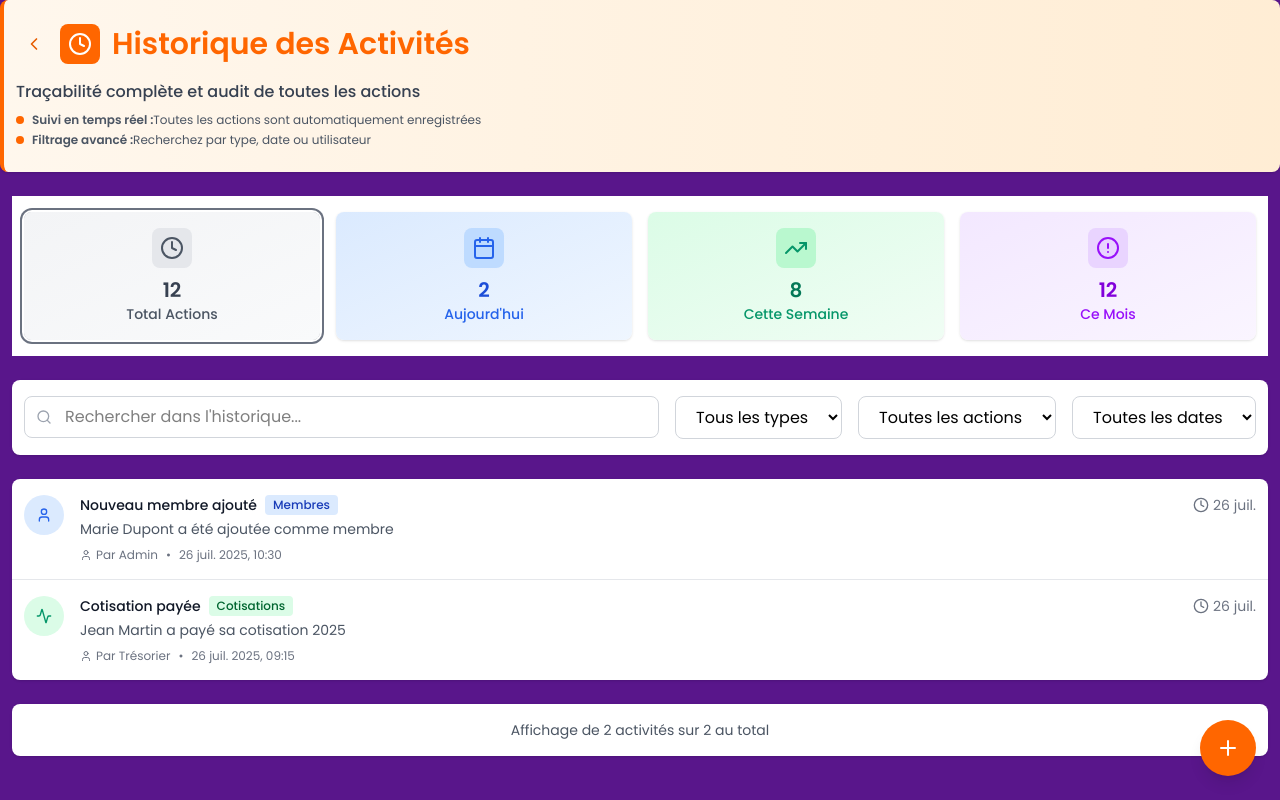
Test: HistoryPage › filtre les activités par type
Select "Membres" in the 1st dropdown showing "Tous les types" at (758, 418), box x1=675 y1=396 x2=842 y2=439
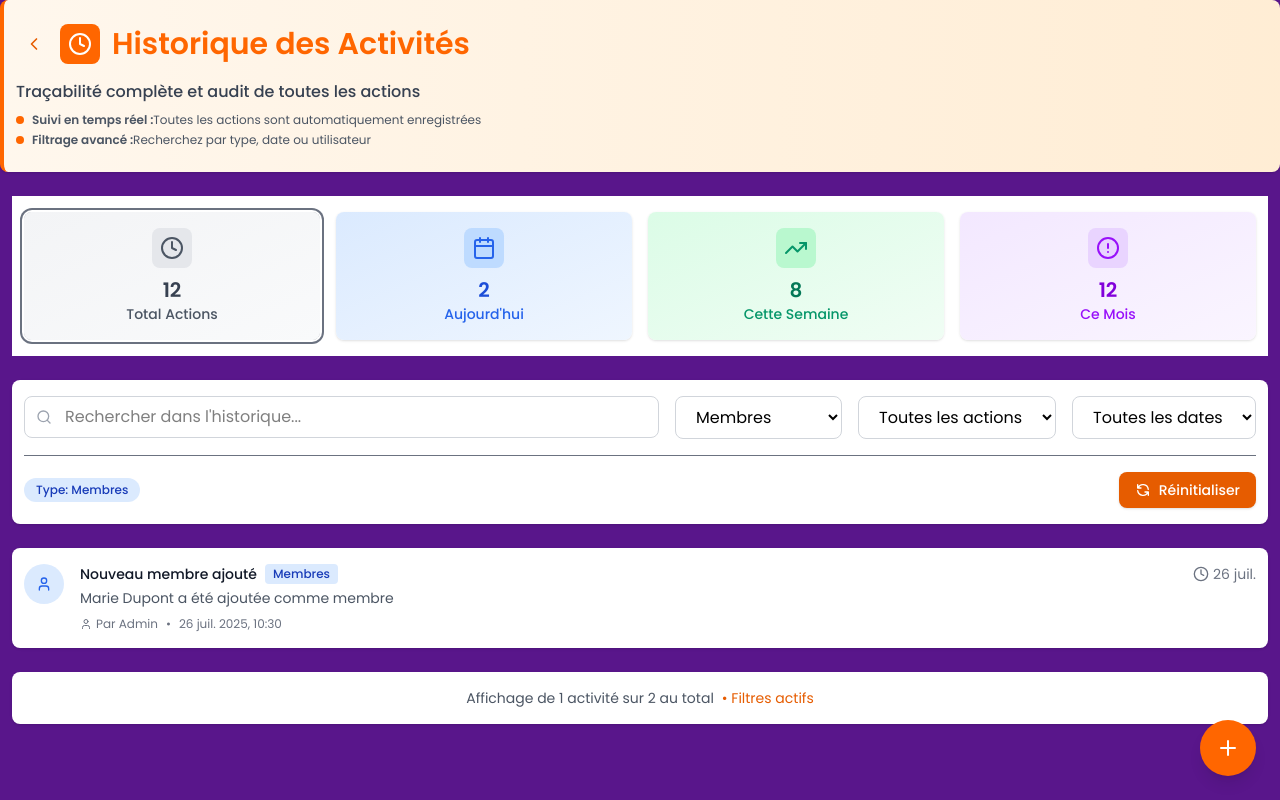
Expected: the heading "Nouveau membre ajouté" is shown, x1=80 y1=564 x2=257 y2=584
Expected: the heading "Cotisation payée" is gone
